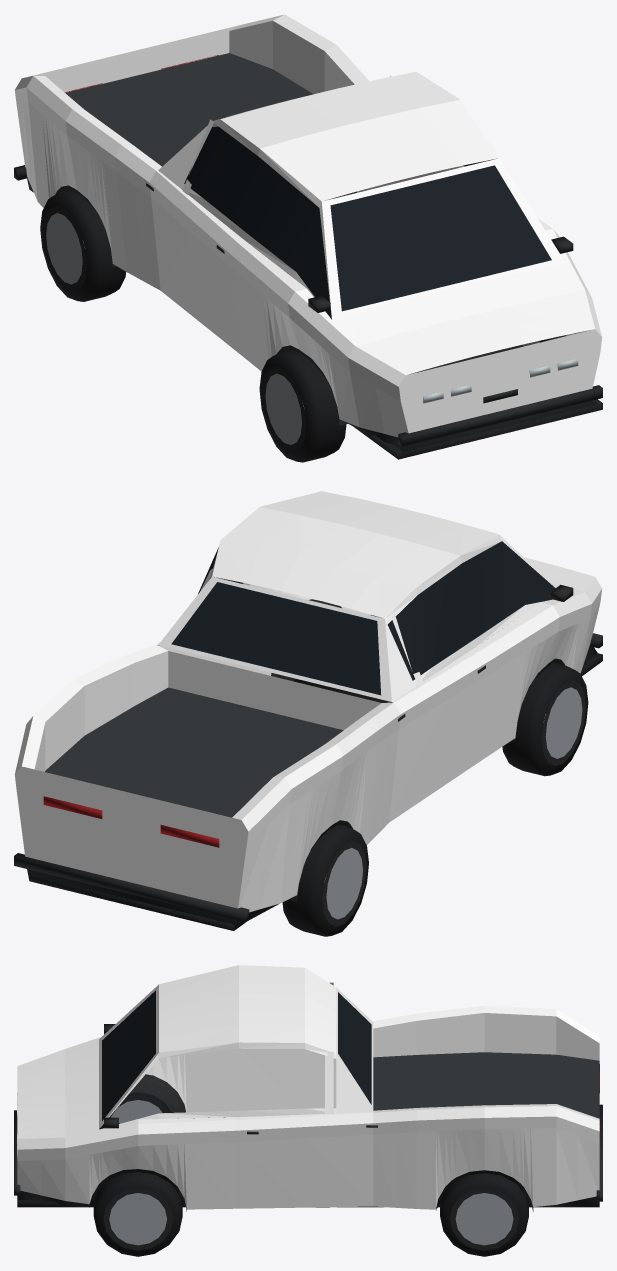
Rendered from voltane_crista.glb.
3 views of the same model, one above another, from view 1: azimuth 30°, elevation 25°; view 2: azimuth 150°, elevation 25°; view 3: azimuth 270°, elevation 25° (orthographic). The views are drawn at different scales.
Parts seen in each view (by area): view 1: Body_Paint, Body_Details, Mount_FrontLeft_Wheel_Details, Mount_RearLeft_Wheel_Details; view 2: Body_Paint, Body_Details, Mount_FrontLeft_Wheel_Details, Mount_RearLeft_Wheel_Details; view 3: Body_Paint, Body_Details, Mount_FrontRight_Wheel_Details, Mount_RearRight_Wheel_Details, Mount_FrontLeft_Wheel_Details.
Part boxes in pixels (x1,y1,x2,y2): Body_Paint: (14, 14, 602, 437); Body_Details: (14, 53, 602, 459); Mount_FrontLeft_Wheel_Details: (259, 349, 346, 462); Mount_RearLeft_Wheel_Details: (40, 189, 126, 301); Body_Paint: (14, 491, 602, 912); Body_Details: (14, 541, 602, 930); Mount_FrontLeft_Wheel_Details: (502, 663, 588, 776); Mount_RearLeft_Wheel_Details: (282, 824, 368, 936); Body_Paint: (17, 965, 599, 1209); Body_Details: (14, 990, 602, 1211); Mount_FrontRight_Wheel_Details: (93, 1172, 182, 1256); Mount_RearRight_Wheel_Details: (440, 1173, 528, 1256); Mount_FrontLeft_Wheel_Details: (109, 1092, 171, 1123).
Bounding box in the file's own units: 2.21 × 1.94 × 5.09.
Materials: 2 (1 with a texture image).
